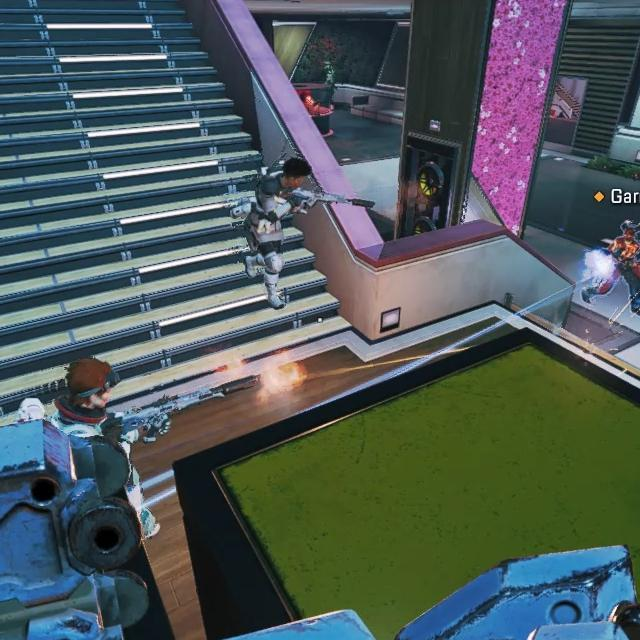avatar: (229, 154, 312, 311), (578, 217, 640, 319), (52, 355, 118, 430)
